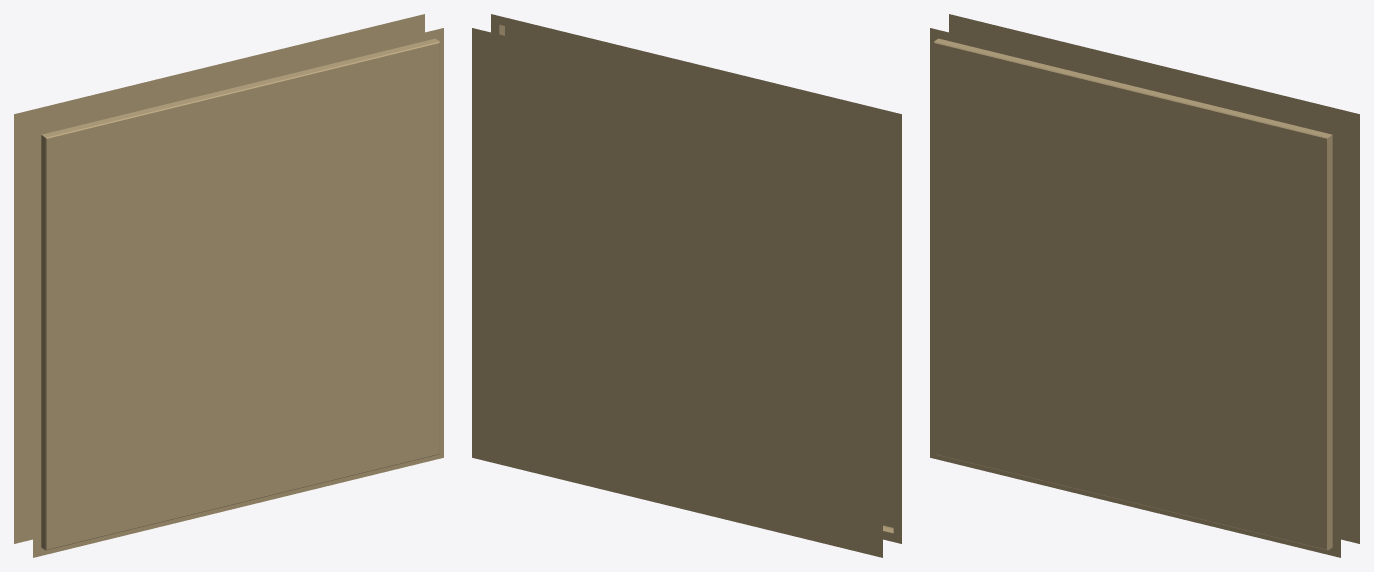
Rendered from Panel_01_001.fbx.
The picture shows the model from 3 angles, left to right: view 1: azimuth 30°, elevation 25°; view 2: azimuth 150°, elevation 25°; view 3: azimuth 330°, elevation 25°; orthographic projection.
Visible parts, largest first — view 1: Panel_01_014; view 2: Panel_01_014; view 3: Panel_01_014.
Boxes of the visible parts, x1=… form: Panel_01_014: x1=14, y1=14, x2=443, y2=557; Panel_01_014: x1=472, y1=14, x2=901, y2=557; Panel_01_014: x1=930, y1=14, x2=1359, y2=557.
Bounding box in the file's own units: 250 × 250 × 25.
